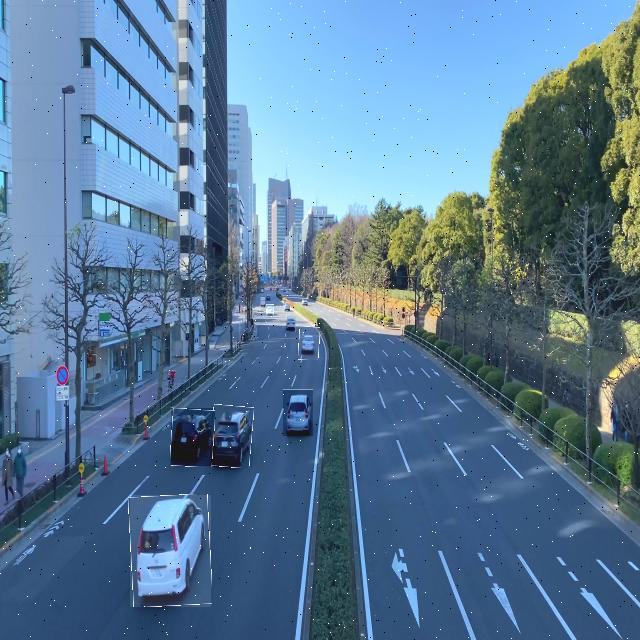Car: (130, 495, 211, 607), (211, 405, 253, 468), (171, 408, 215, 466), (283, 389, 313, 436), (299, 327, 319, 360), (286, 316, 296, 332), (266, 304, 274, 317)
